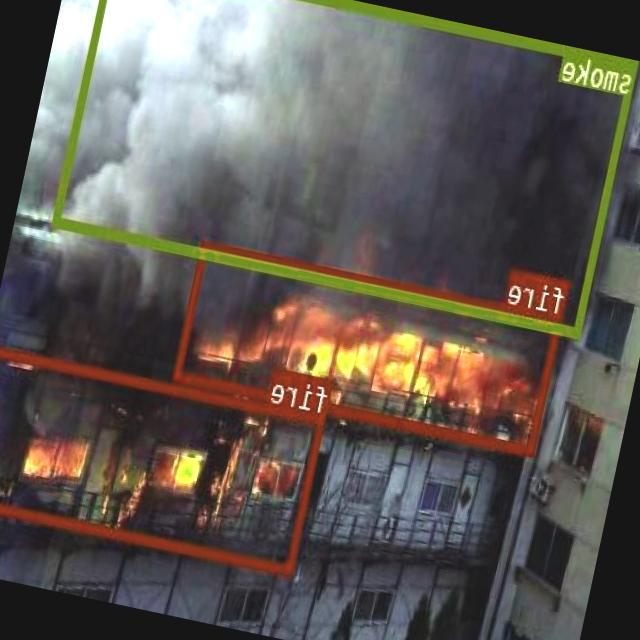fire: (173, 240, 564, 456), (0, 344, 327, 575)
smoke: (53, 0, 639, 337)
